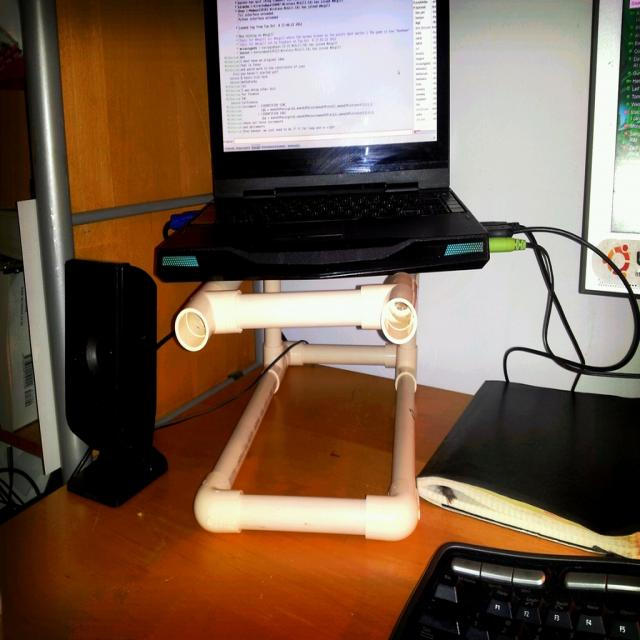desk: (0, 359, 639, 639)
keyboard: (390, 543, 640, 639)
laptop: (194, 1, 488, 276)
tv: (584, 2, 640, 306)
